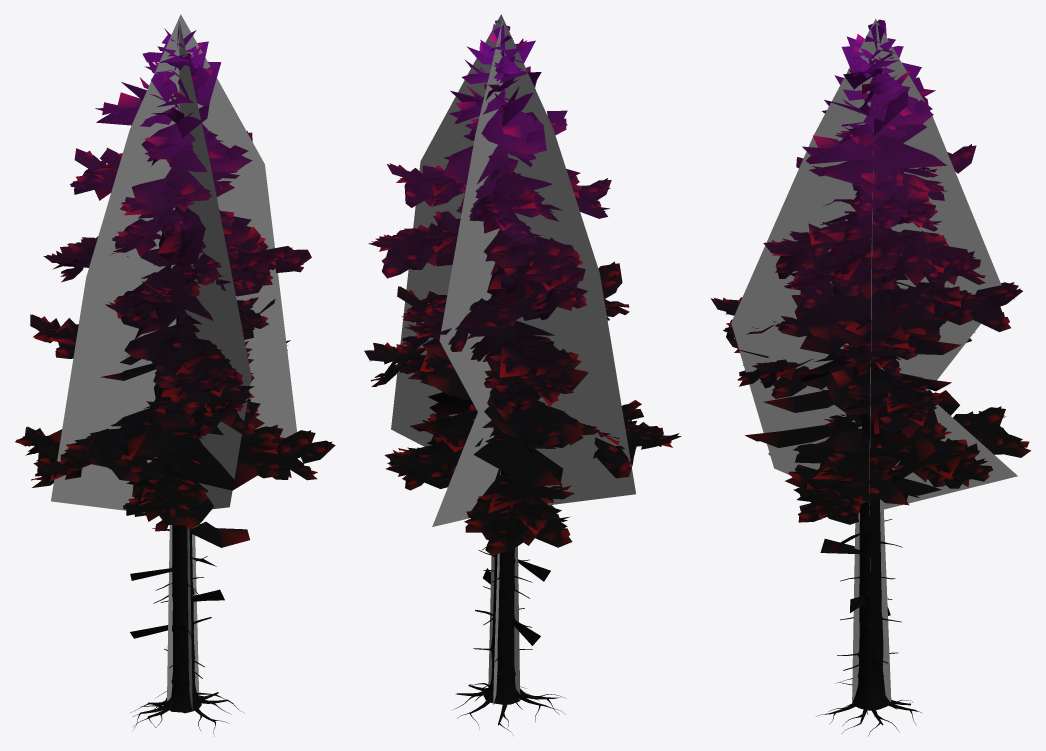
Rendered from Trees.FBX.
3 renders of one model, left to right at view 1: azimuth 30°, elevation 25°; view 2: azimuth 150°, elevation 25°; view 3: azimuth 270°, elevation 25°, orthographic.
Parts seen in each view (by area): view 1: Tress, Tress_Billboard; view 2: Tress, Tress_Billboard; view 3: Tress, Tress_Billboard.
Boxes of the visible parts, left/top/right/bottom form: Tress: left=15, top=25, right=335, bottom=736; Tress_Billboard: left=51, top=14, right=296, bottom=711; Tress: left=364, top=20, right=681, bottom=735; Tress_Billboard: left=391, top=14, right=635, bottom=704; Tress: left=710, top=19, right=1030, bottom=736; Tress_Billboard: left=731, top=19, right=1017, bottom=702.
Size of the model in its own units: 8777 by 20547 by 8485.
